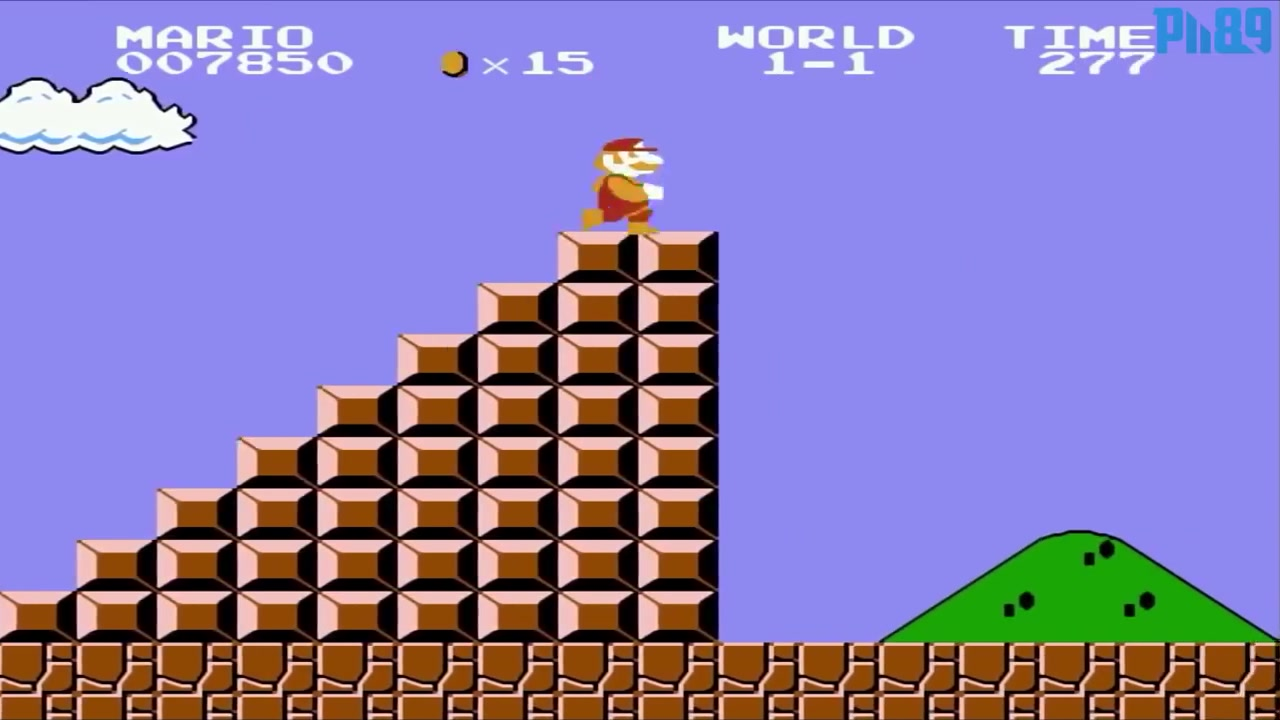mario: (569, 132, 681, 239)
